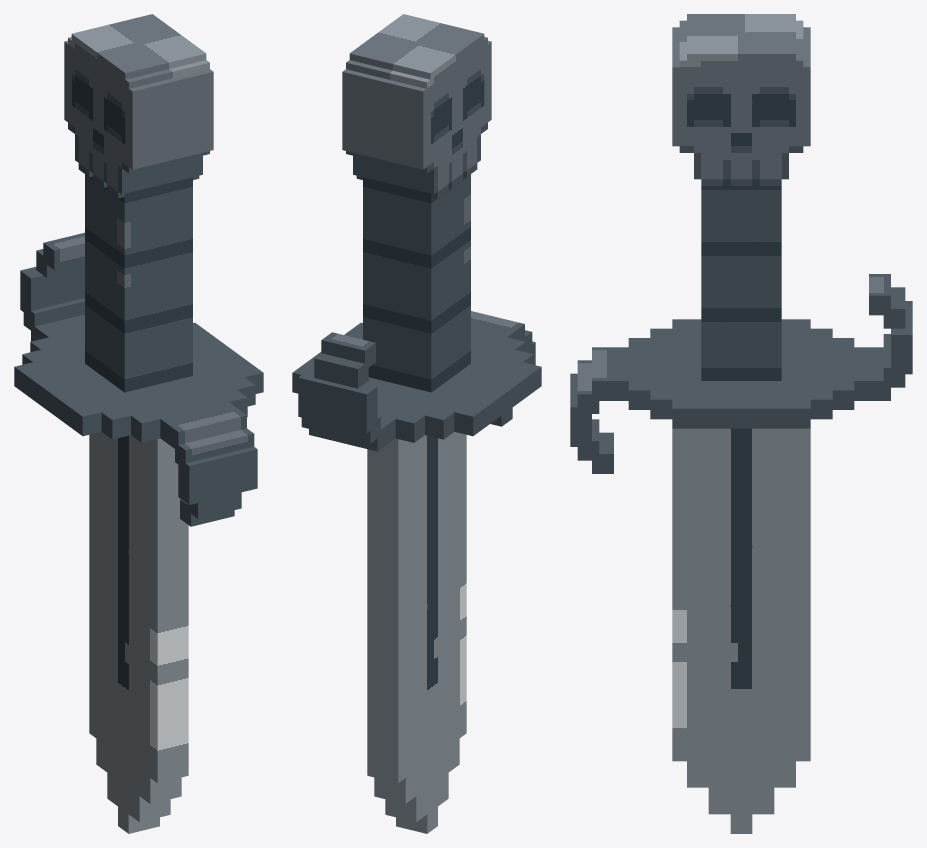
File: item_dagger.gltf
The picture shows the model from 3 angles, left to right: view 1: azimuth 30°, elevation 25°; view 2: azimuth 150°, elevation 25°; view 3: azimuth 270°, elevation 25°; orthographic projection.
Visible parts, largest first — view 1: item_dagger-Mesh; view 2: item_dagger-Mesh; view 3: item_dagger-Mesh.
Boxes of the visible parts, box(x1,y1,x2,y2) form: item_dagger-Mesh: box(14, 14, 263, 833); item_dagger-Mesh: box(292, 14, 541, 833); item_dagger-Mesh: box(570, 14, 912, 833).
Bounding box in the file's own units: 29 × 120 × 47.
1 material, 1 textured.
